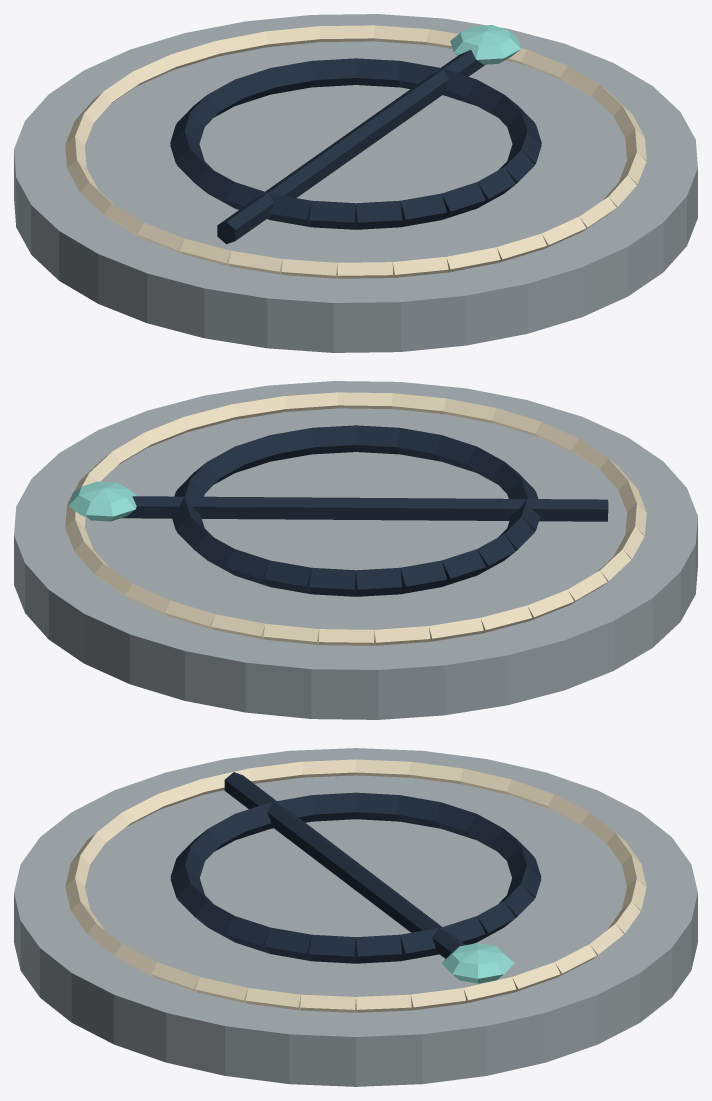
Rendered from space_scene_platinum_coin.glb.
3 renders of one model, top to bottom at view 1: azimuth 30°, elevation 25°; view 2: azimuth 150°, elevation 25°; view 3: azimuth 270°, elevation 25°, orthographic.
Parts seen in each view (by area): view 1: BrassTrim, FixedDetails; view 2: BrassTrim, FixedDetails; view 3: BrassTrim, FixedDetails.
Boxes of the visible parts, <box> form: BrassTrim: <box>14,14,697,352</box>; FixedDetails: <box>65,25,646,278</box>; BrassTrim: <box>14,381,697,719</box>; FixedDetails: <box>65,392,646,645</box>; BrassTrim: <box>14,748,697,1086</box>; FixedDetails: <box>65,759,646,1012</box>.
Size of the model in its own units: 0.56 by 0.077 by 0.56.
